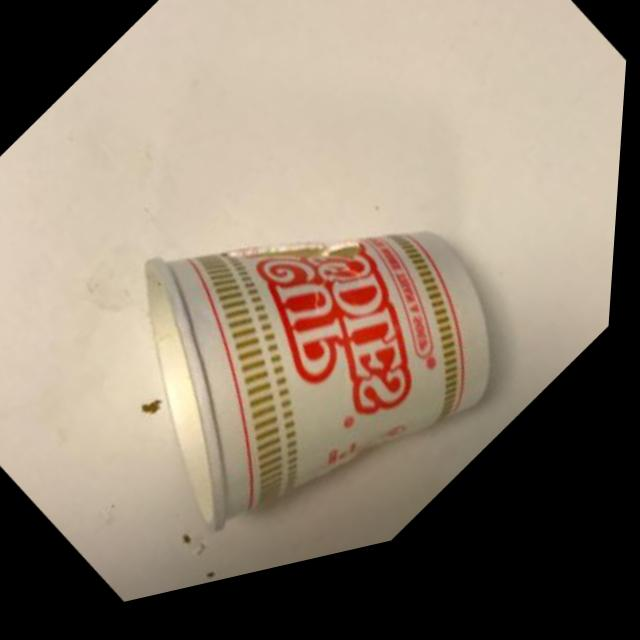trash: (0, 0, 625, 640)
